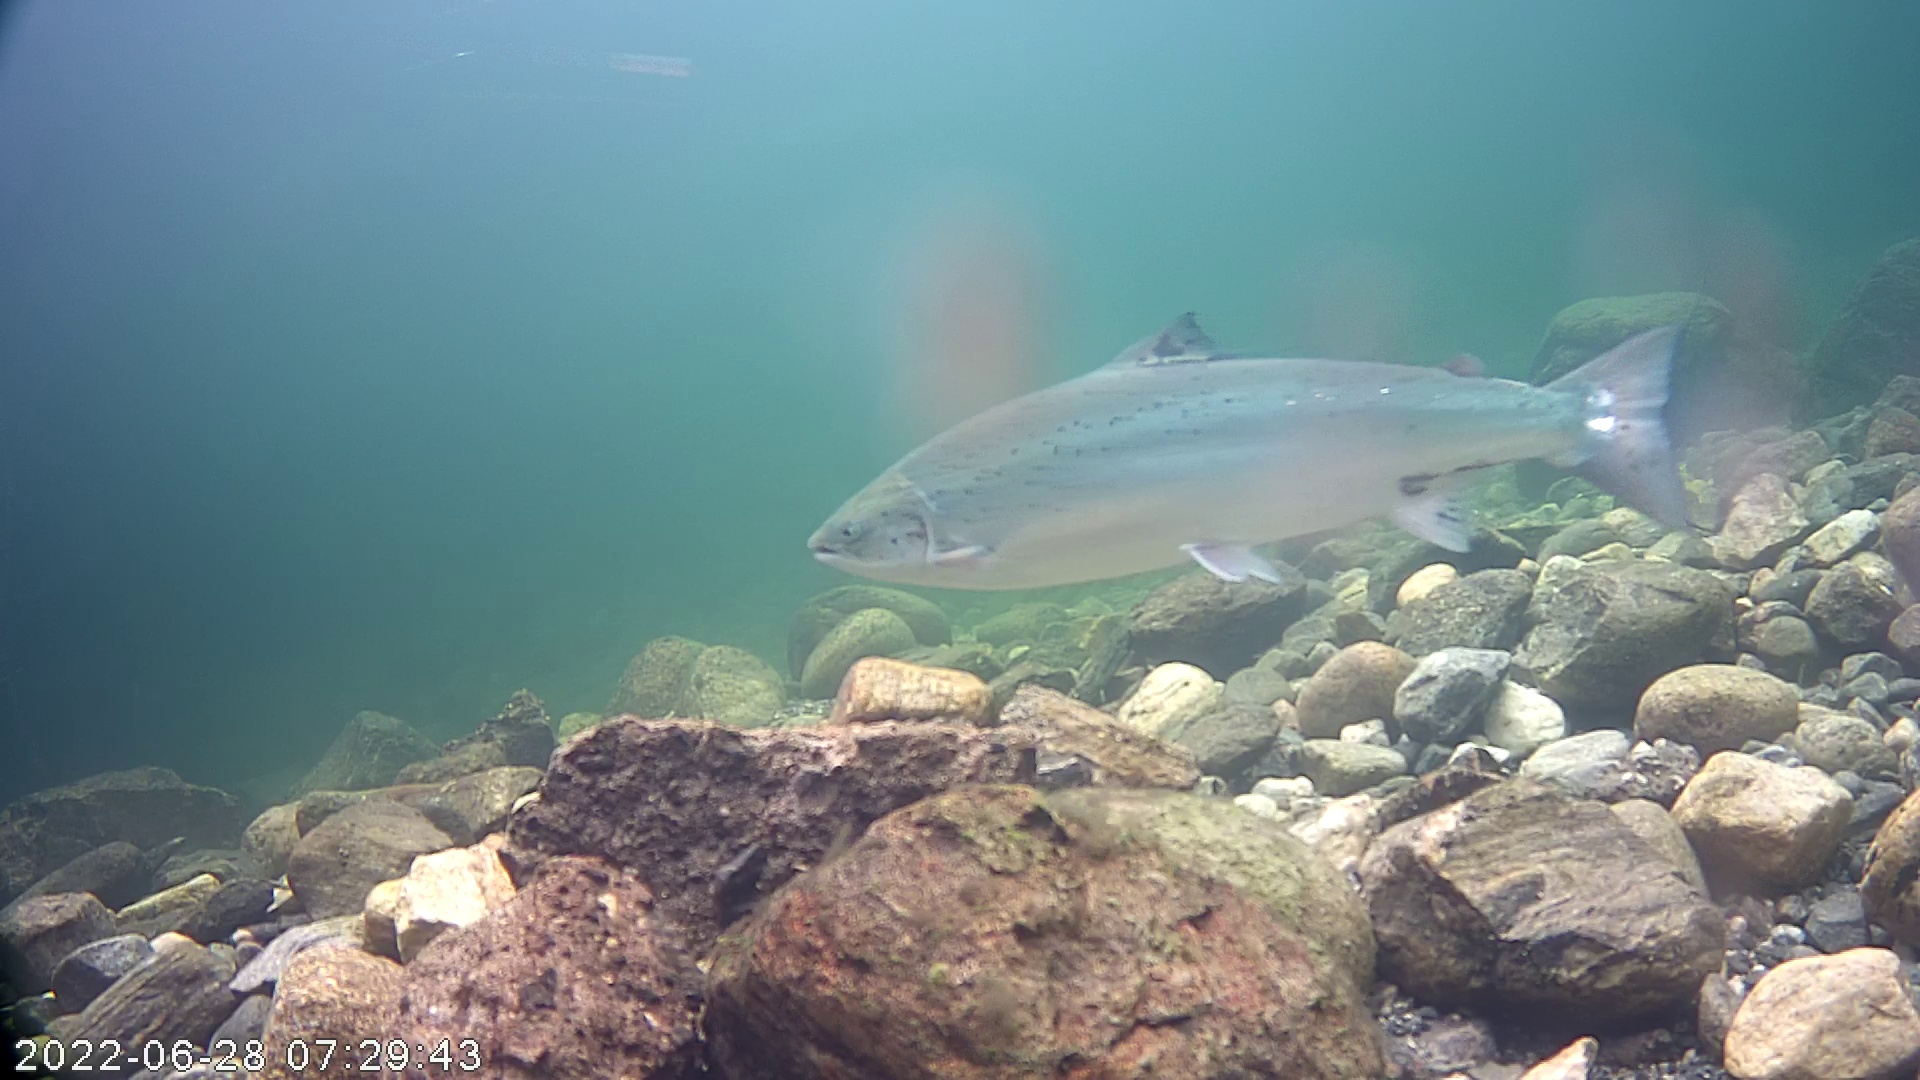salmon: (795, 214, 1720, 626)
